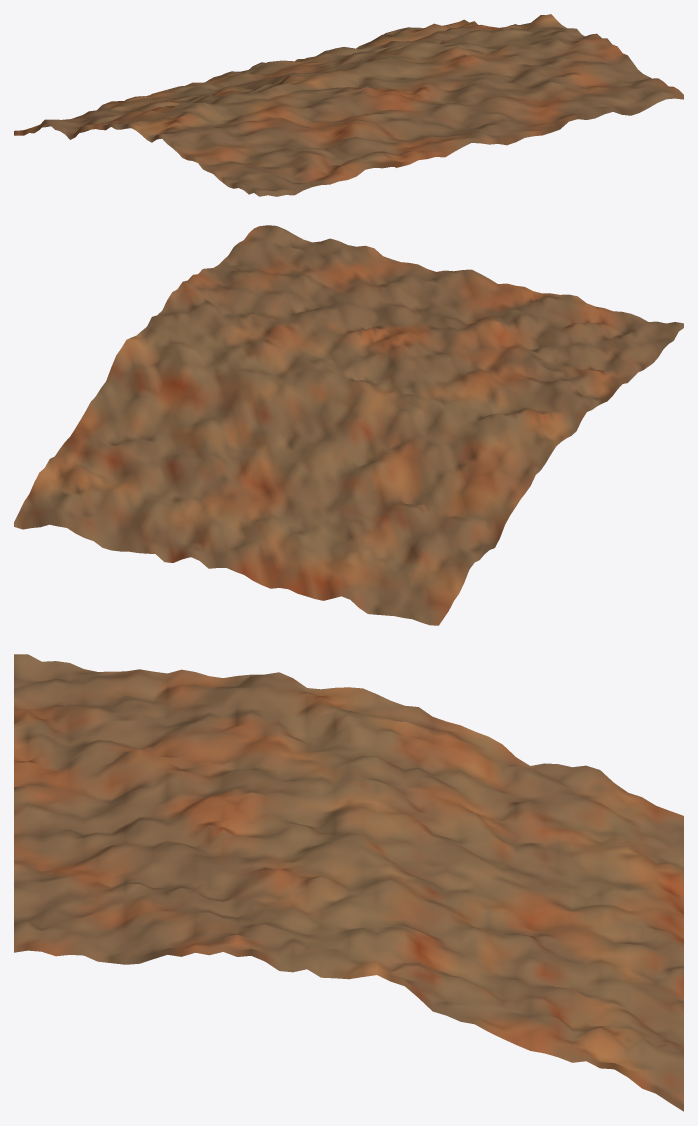
The model's file is terrain-159.glb.
3 views of the same model, one above another, from view 1: azimuth 30°, elevation 25°; view 2: azimuth 150°, elevation 25°; view 3: azimuth 270°, elevation 25° (orthographic). The views are drawn at different scales.
Parts seen in each view (by area): view 1: terrain-159; view 2: terrain-159; view 3: terrain-159.
Boxes of the visible parts, x1,y1,x2,y2 form: terrain-159: (14,14,683,196); terrain-159: (14,225,683,625); terrain-159: (14,654,683,1111).
Size of the model in its own units: 384 by 113 by 384.
